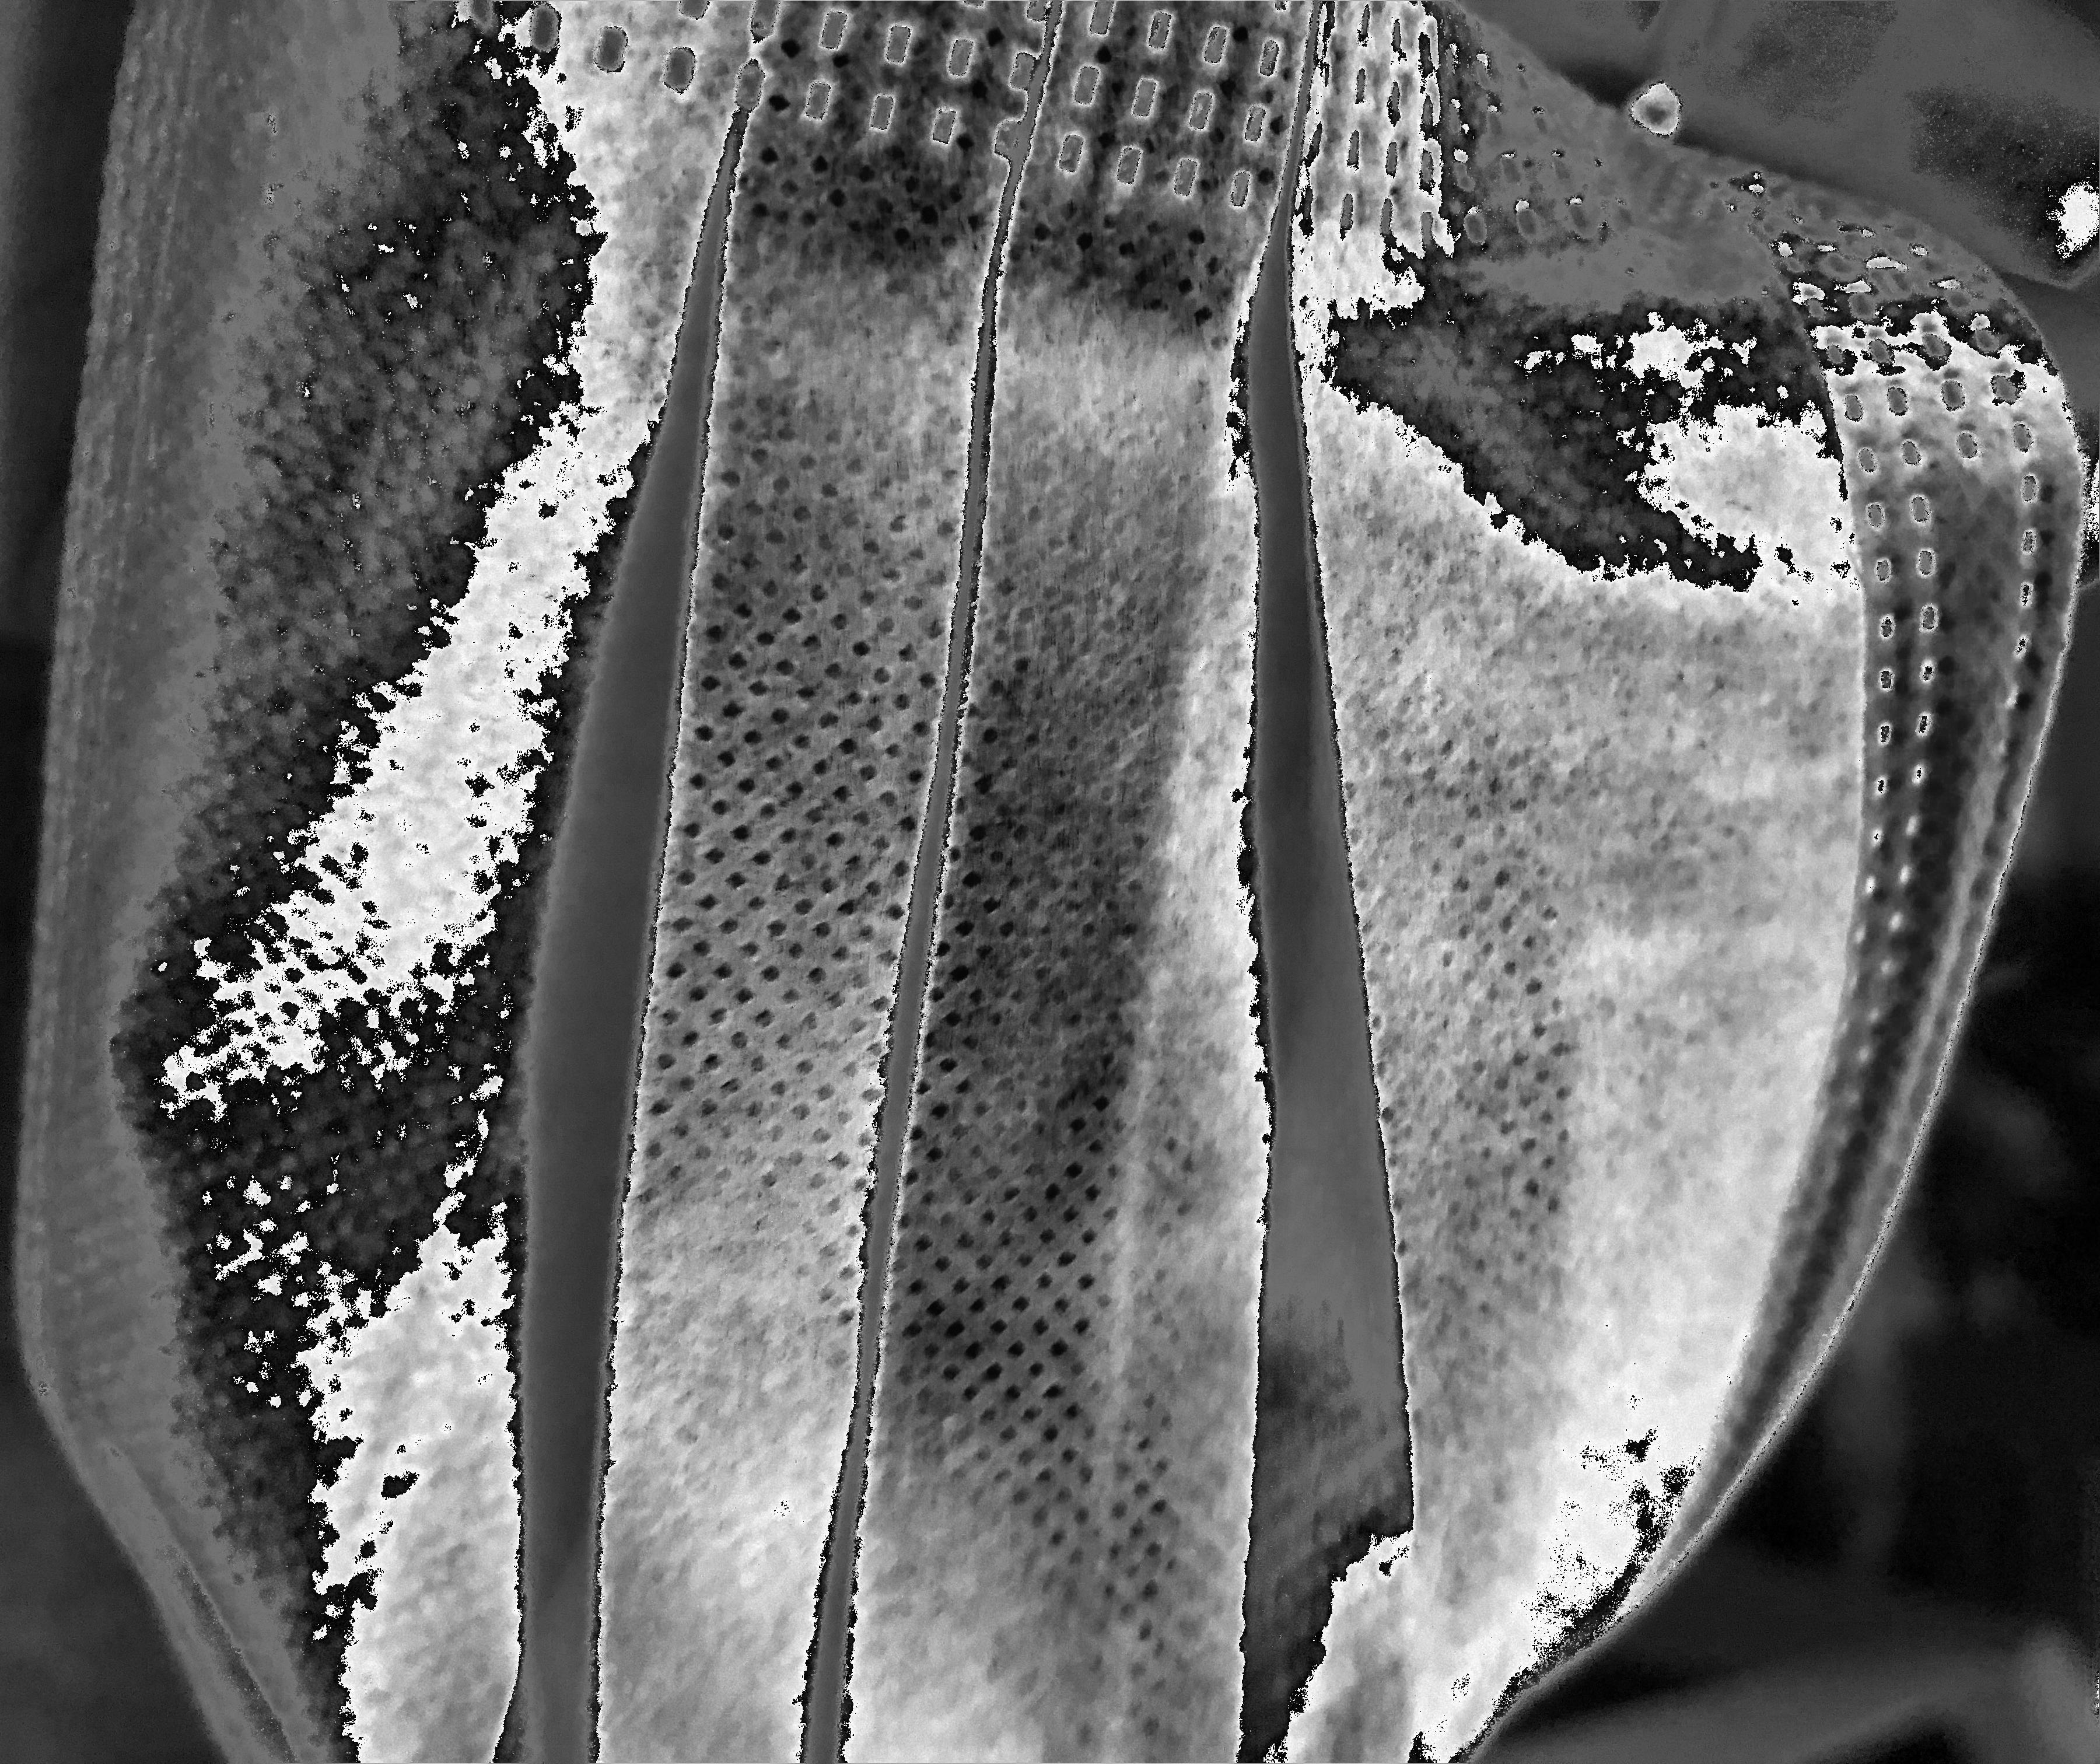High GSM: (199, 989, 518, 1764), (949, 829, 1241, 1542), (1300, 249, 1859, 618), (339, 268, 597, 684), (626, 1253, 807, 1764), (1591, 1206, 1731, 1505)
Undefined Area: (79, 0, 306, 434)
